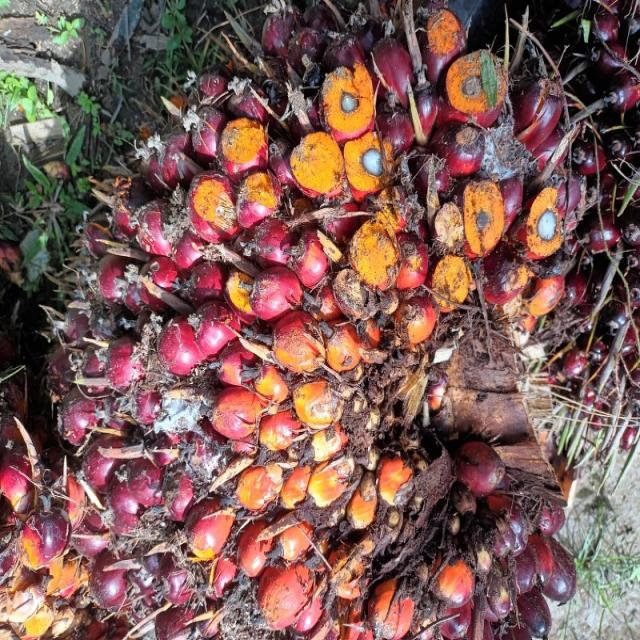fraksi 1: (0, 21, 480, 640)
